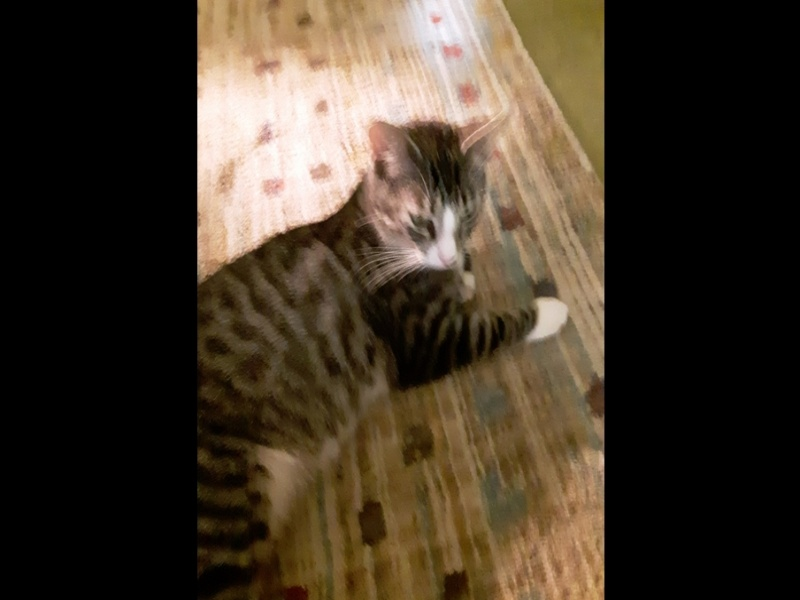cat: (200, 99, 576, 590)
